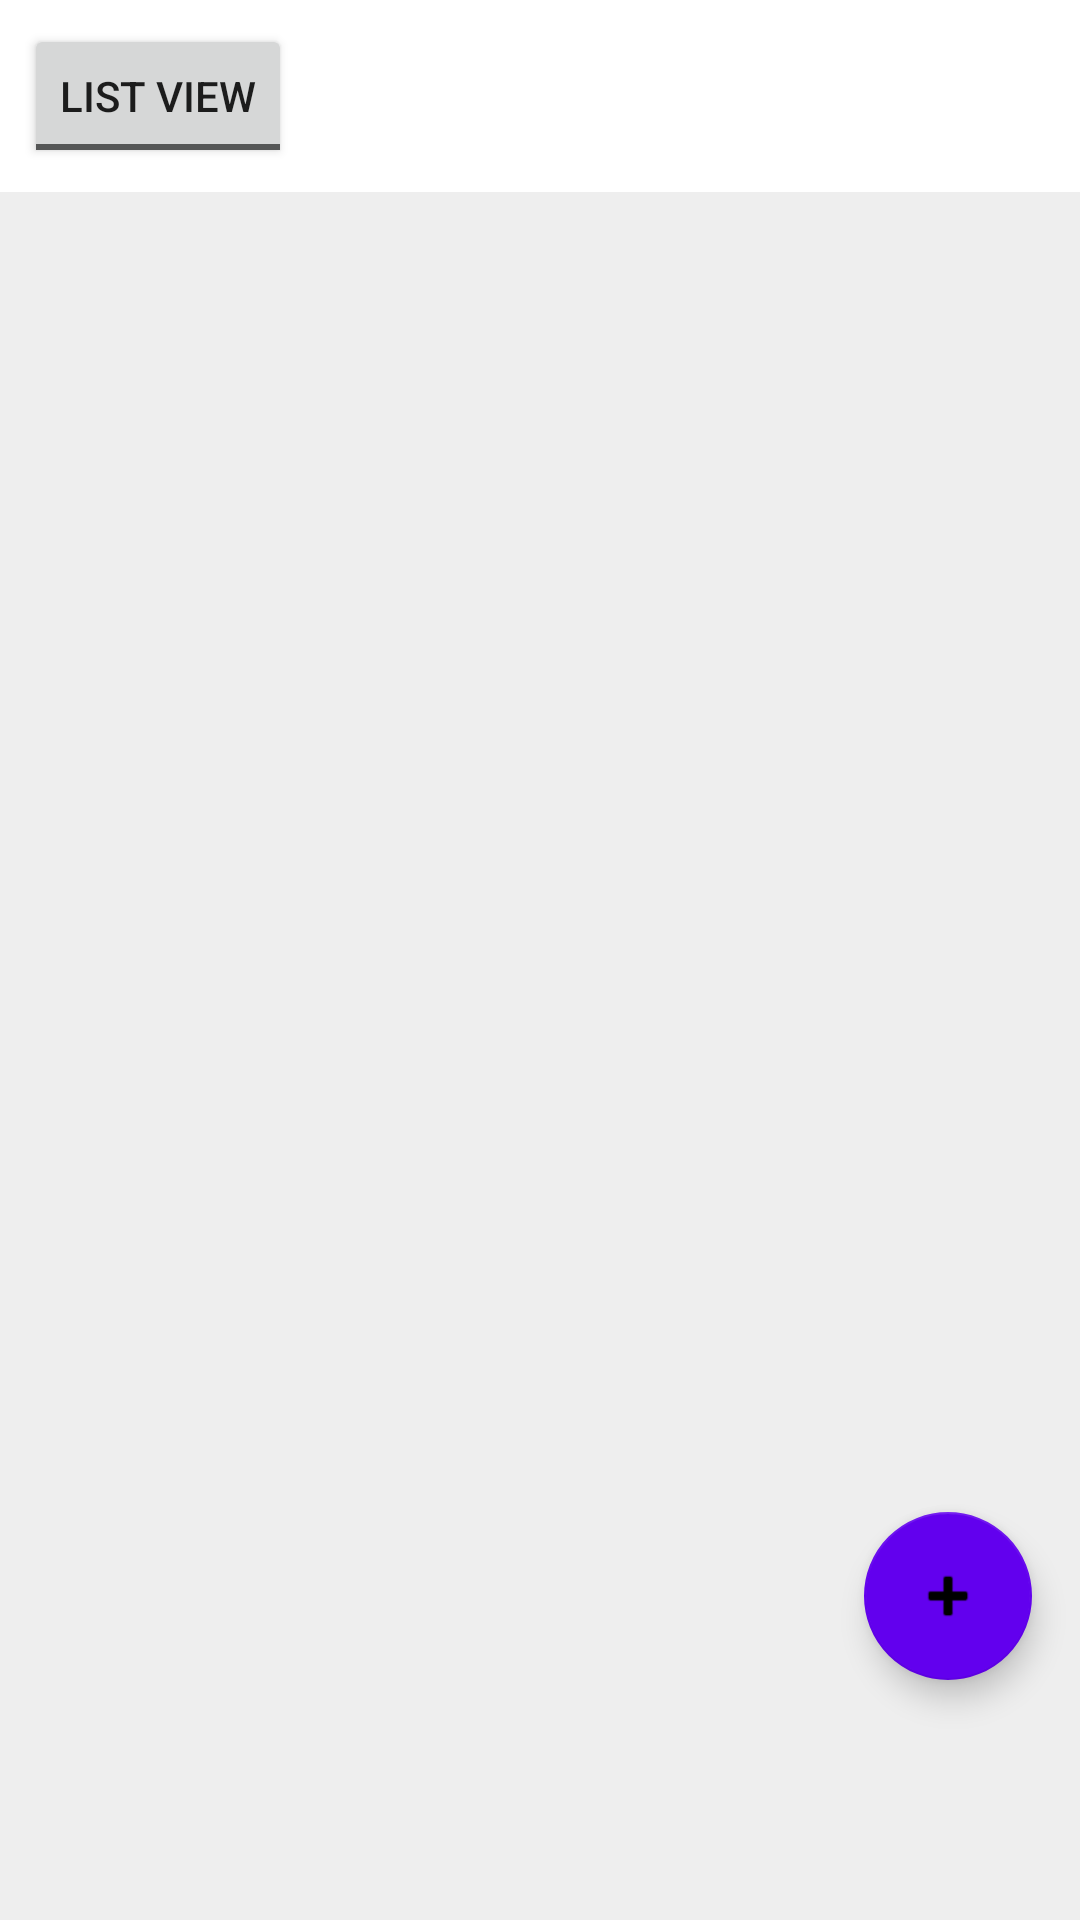

Named icons in this screenshot (1080 x 1920) and their centers, (x,y):
add: (948,1596)
